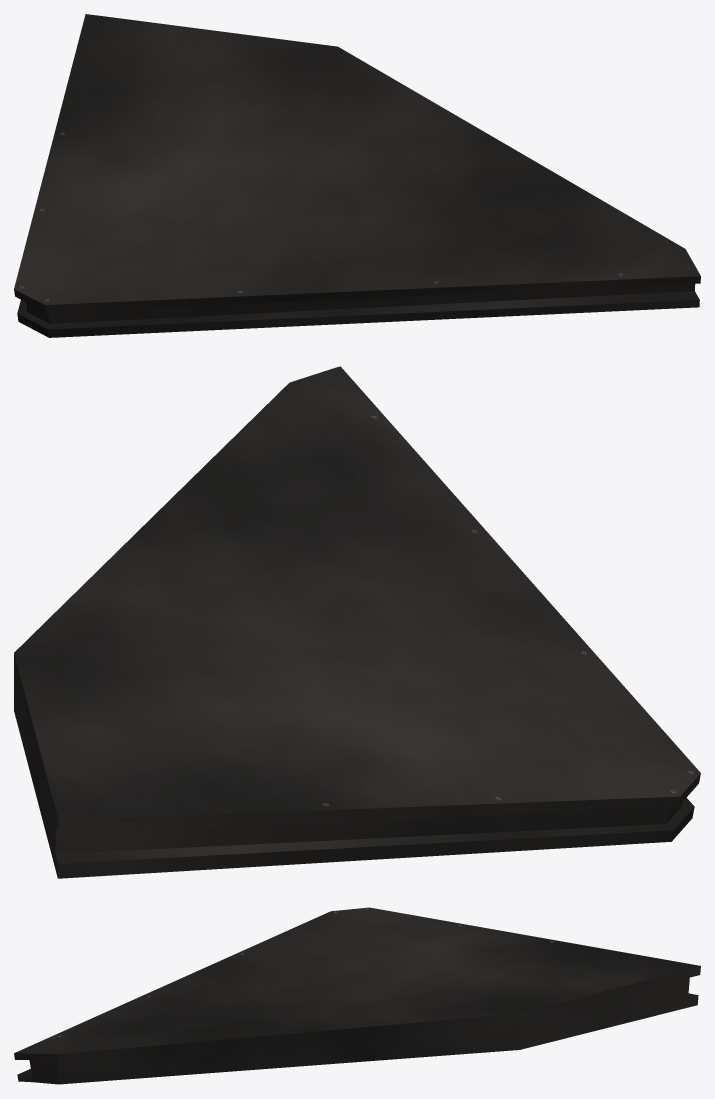
File: e_starboard_overwing_d_model.fbx
3 views of the same model, one above another, from view 1: azimuth 30°, elevation 25°; view 2: azimuth 150°, elevation 25°; view 3: azimuth 270°, elevation 25° (orthographic). The views are drawn at different scales.
Visible parts, largest first — view 1: polySurface9; view 2: polySurface9; view 3: polySurface9.
Boxes of the visible parts, bbox=[...] form: polySurface9: bbox=[14, 14, 700, 337]; polySurface9: bbox=[14, 366, 700, 878]; polySurface9: bbox=[14, 907, 700, 1084].
Size of the model in its own units: 5380 by 1172 by 7982.
Materials: 2 (1 with a texture image).
